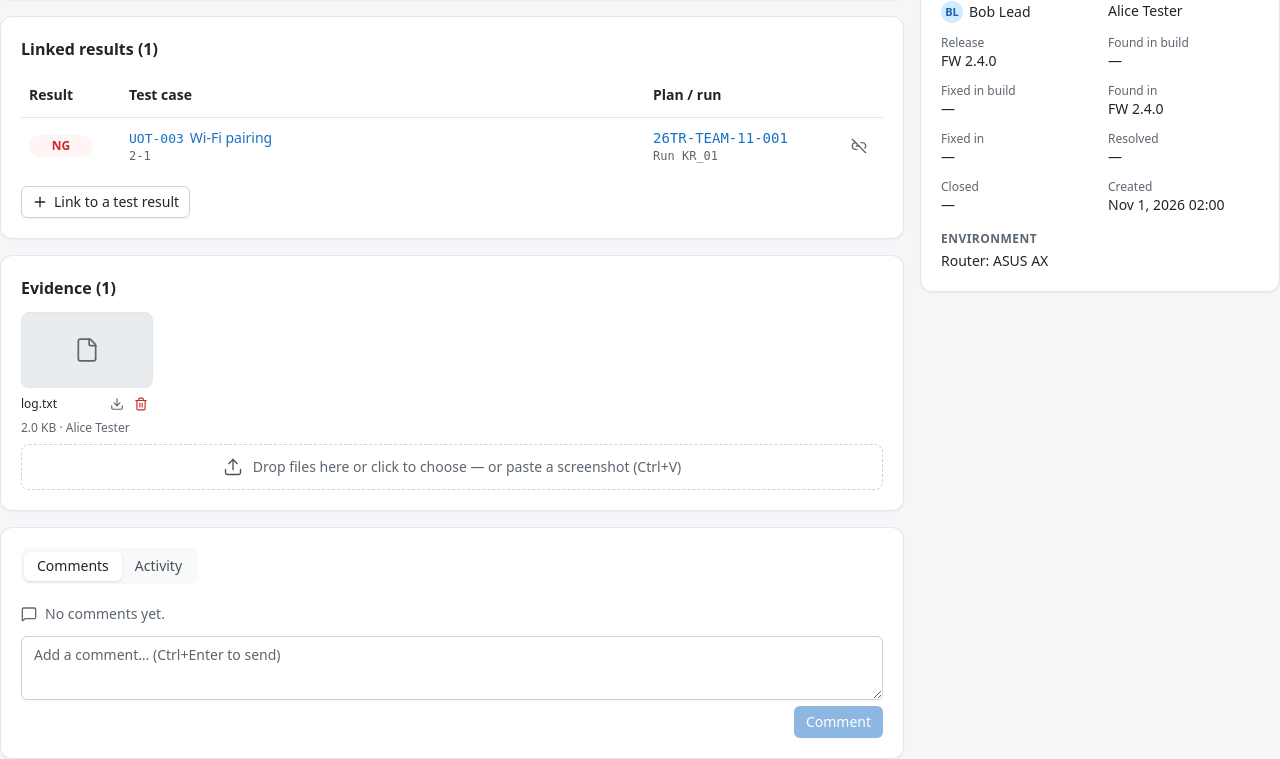
Test: DefectDetailPage › shows the reproduction, links, evidence, details, comments and activity
(page scrolled)
Expected: the element "Evidence (1)" shows "log.txt", 21,395 -> 57,412
Expected: the element "Details" shows "FW 2.4.0", 941,51 -> 996,70
Click the tab "Activity".
click(158, 566)  # box 122,552 -> 195,581
(page scrolled)
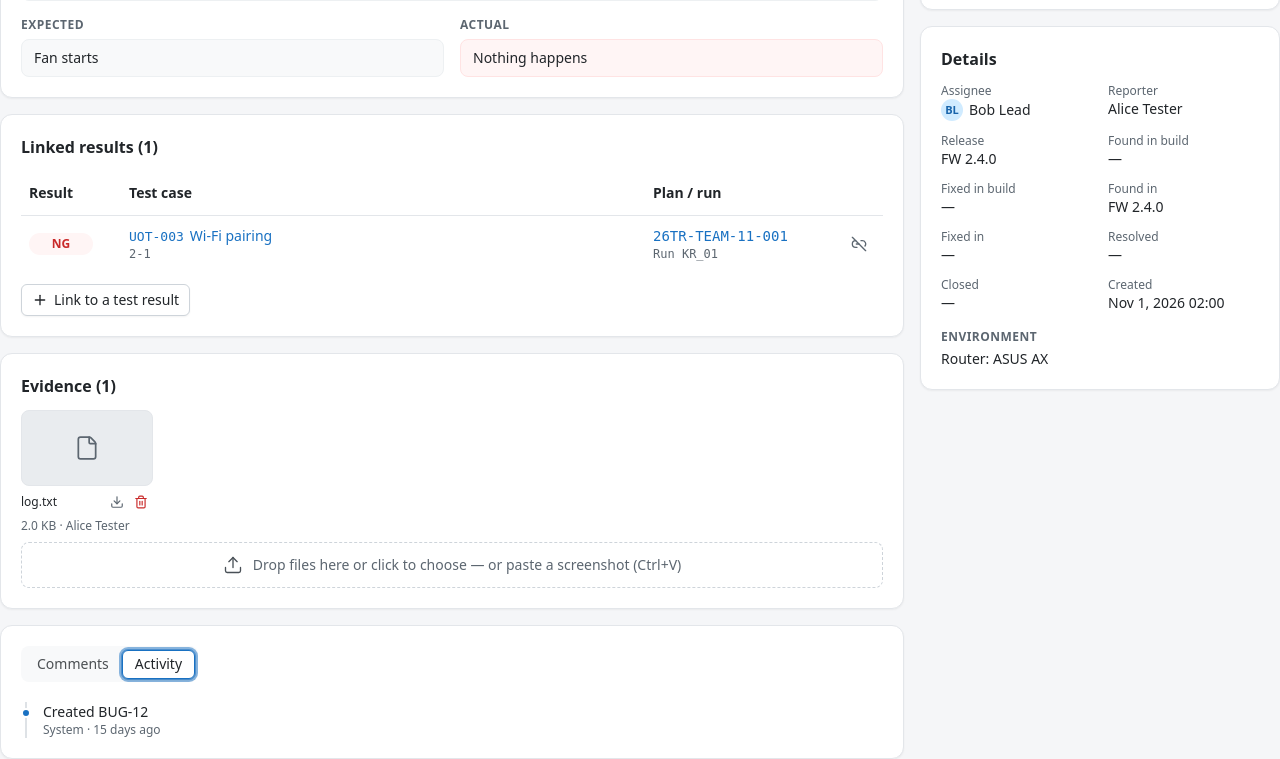
Result: the text "Created BUG-12" is shown at 43,702 -> 148,721
